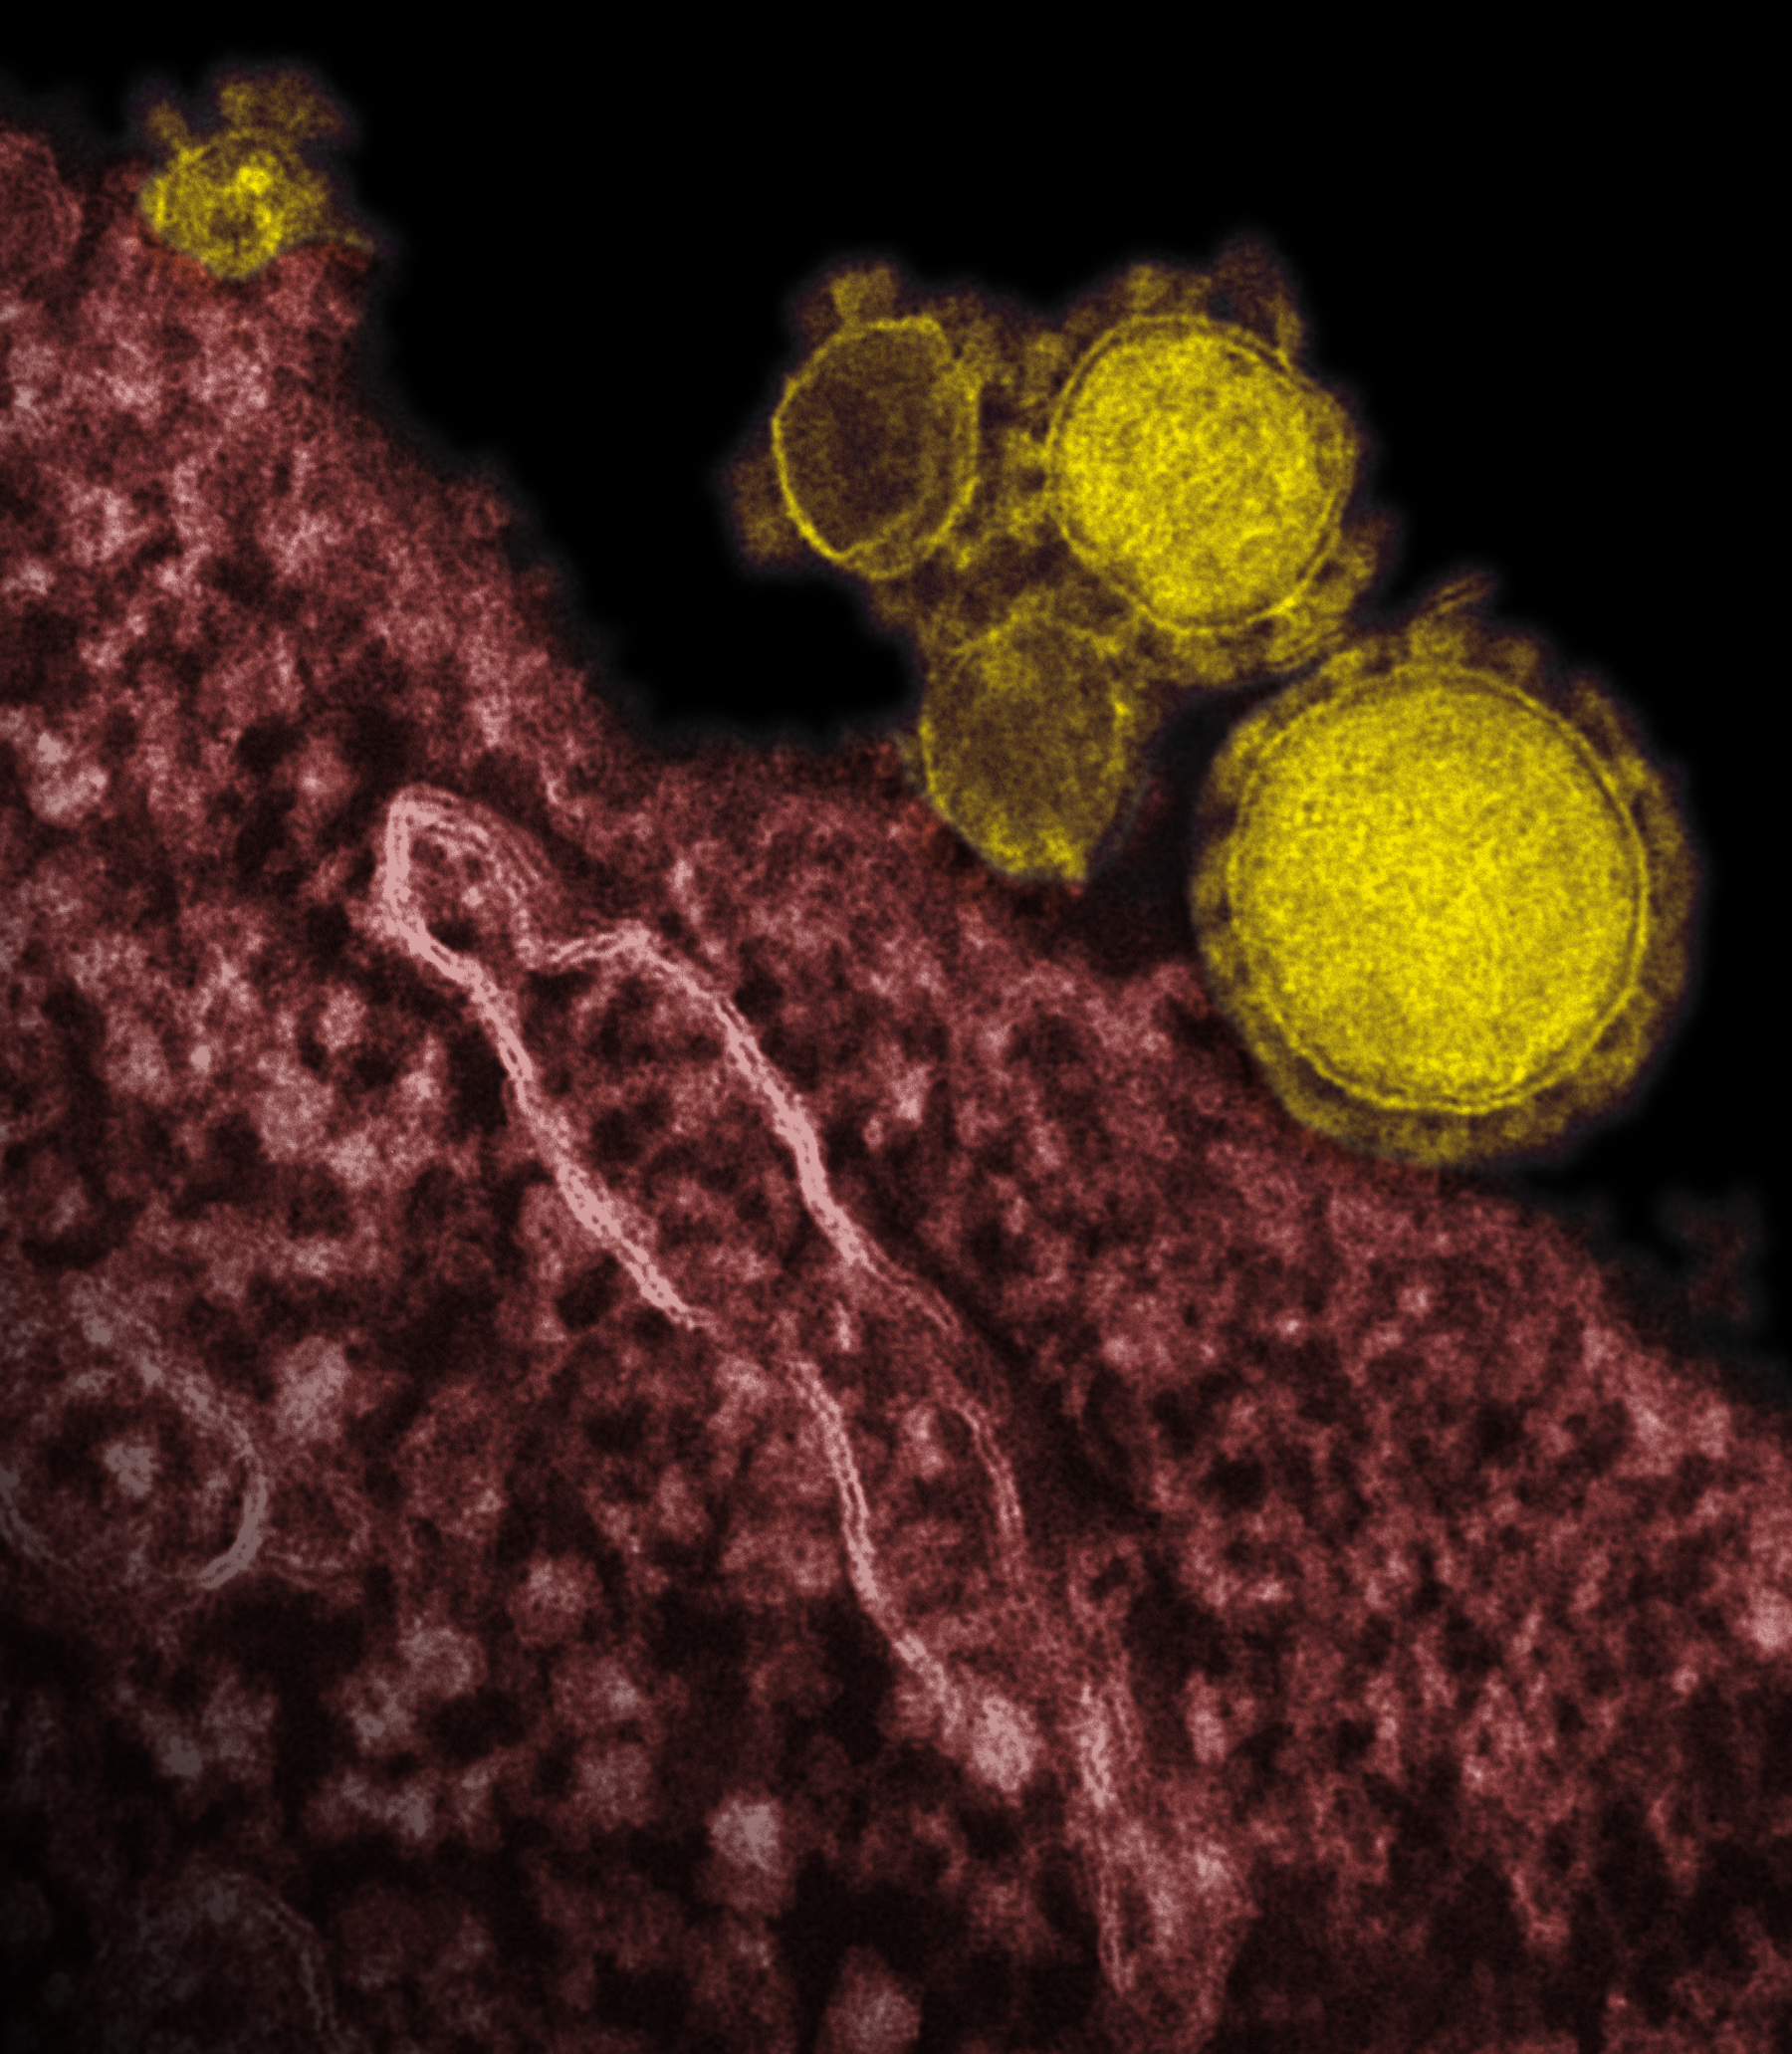COVID19: (674, 252, 1792, 1207)
